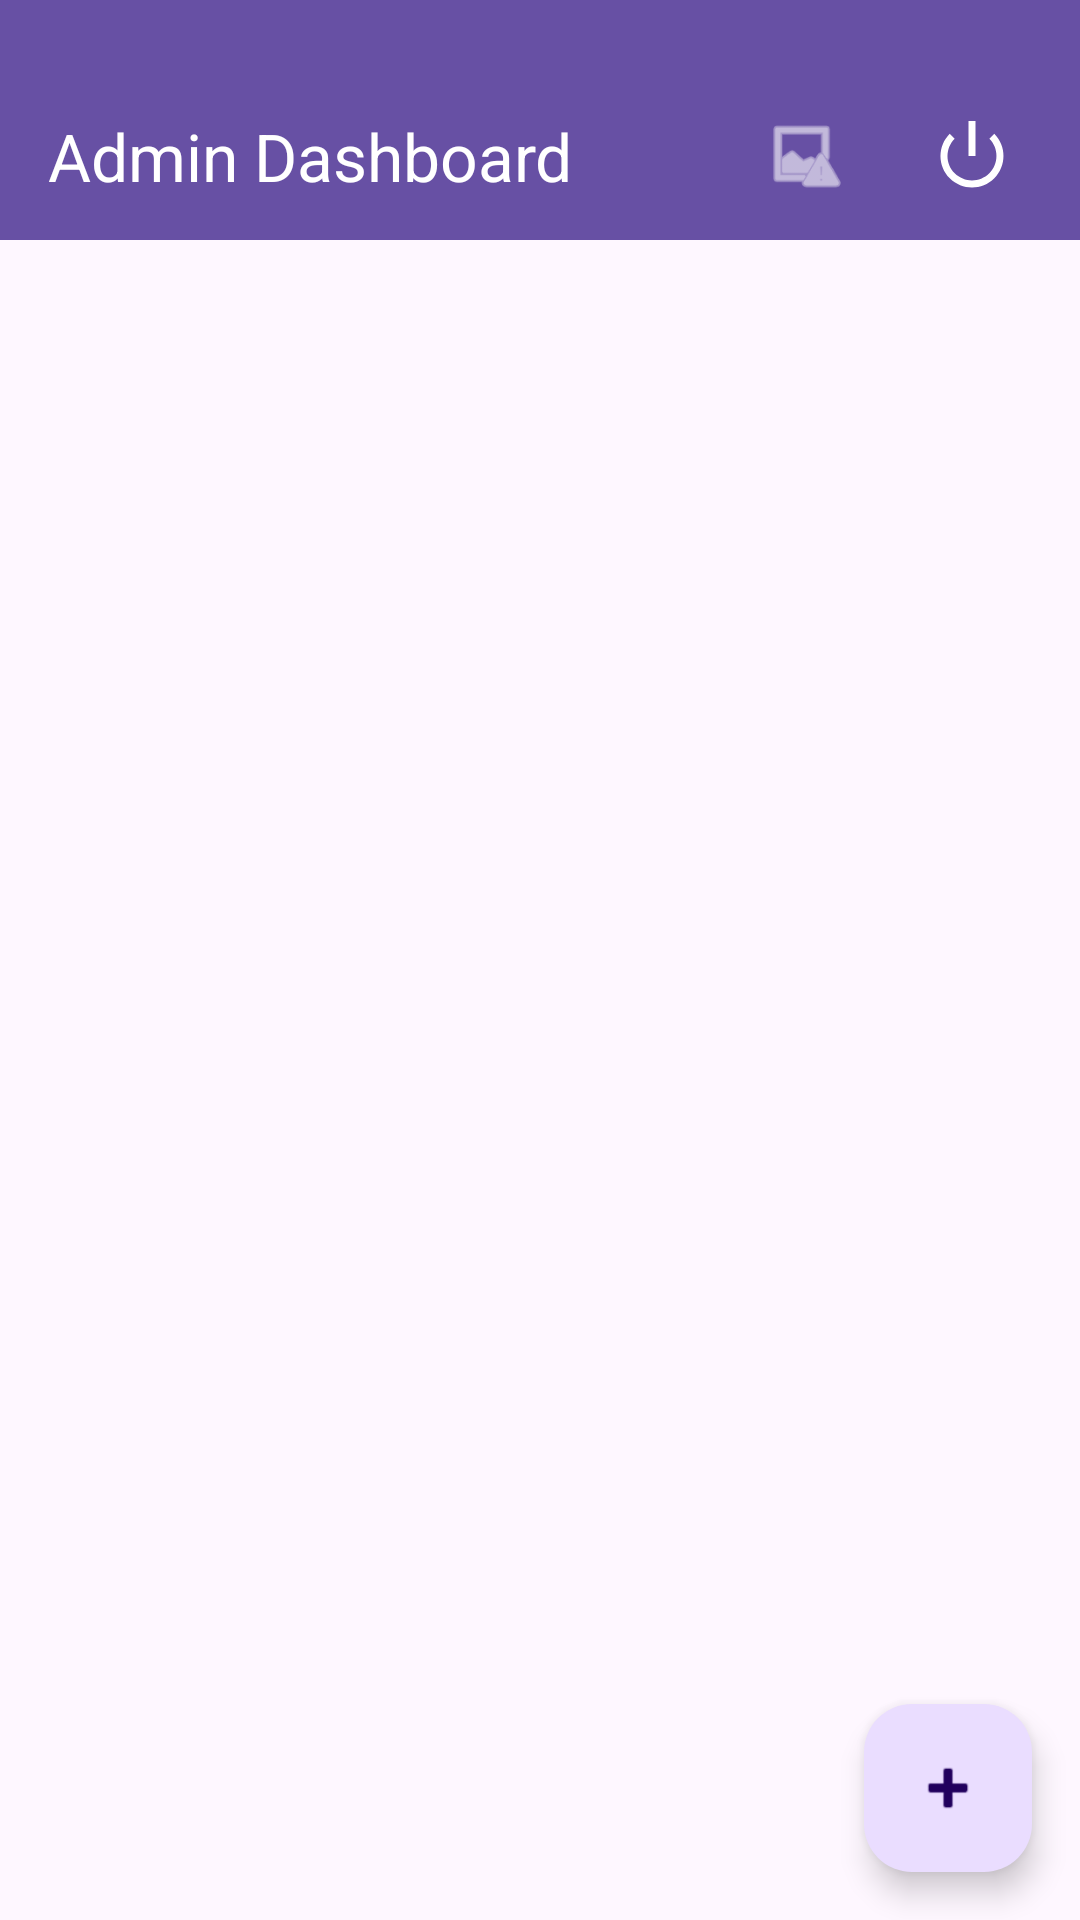

Icons on this 1080w x 1920h Android screen, each with the point to tap as [x,y]:
Create new campaign: [948,1788]
Sign Out: [972,154]
